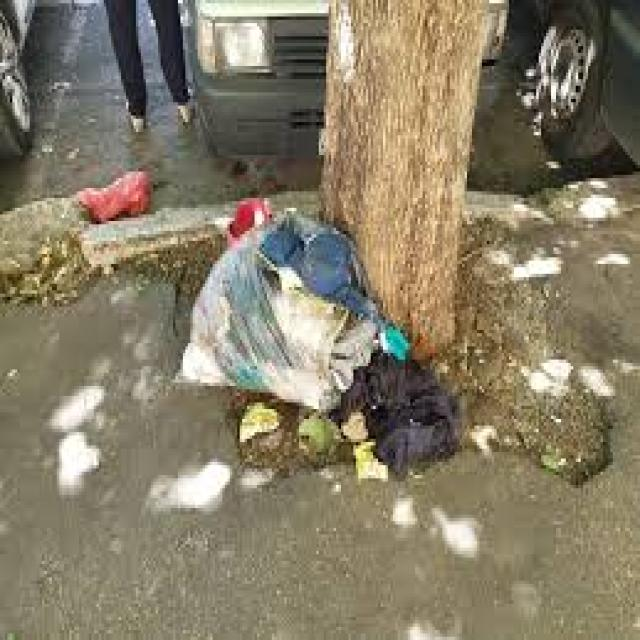sampah-detection: (168, 210, 387, 408), (372, 360, 474, 486), (74, 162, 158, 231)
